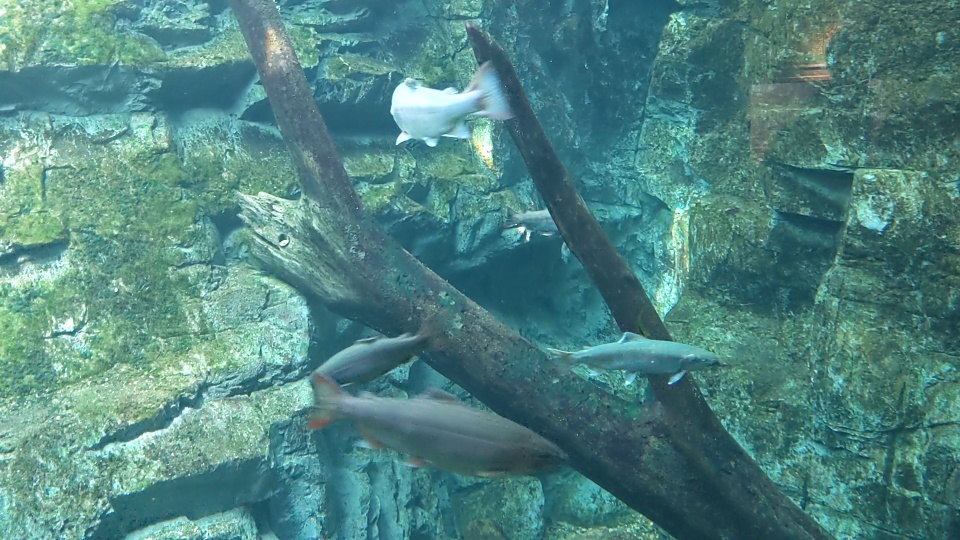Fish: (311, 374, 574, 485), (389, 59, 512, 154), (544, 322, 719, 382), (304, 325, 436, 390), (499, 199, 574, 237)
